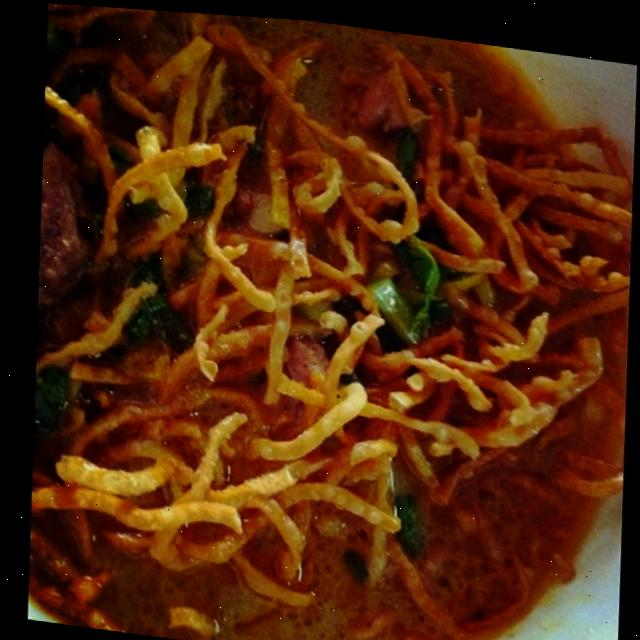面条主食: (31, 22, 587, 632)
